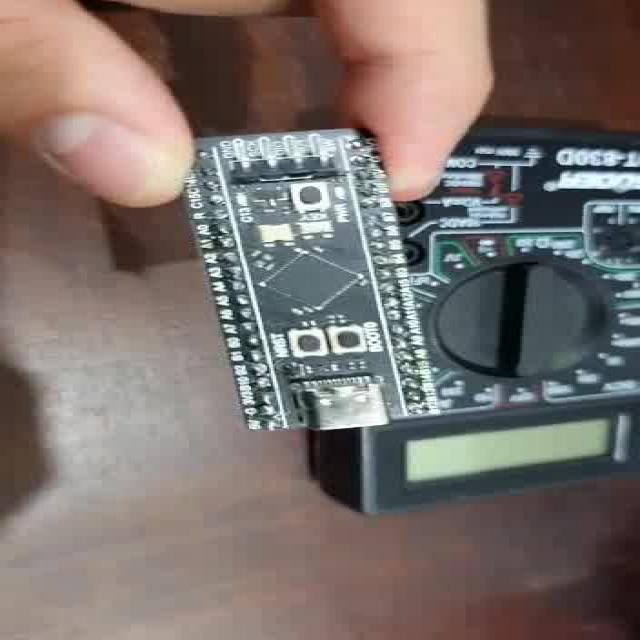multimeter: (385, 136, 640, 506)
stm32: (209, 132, 433, 436)
